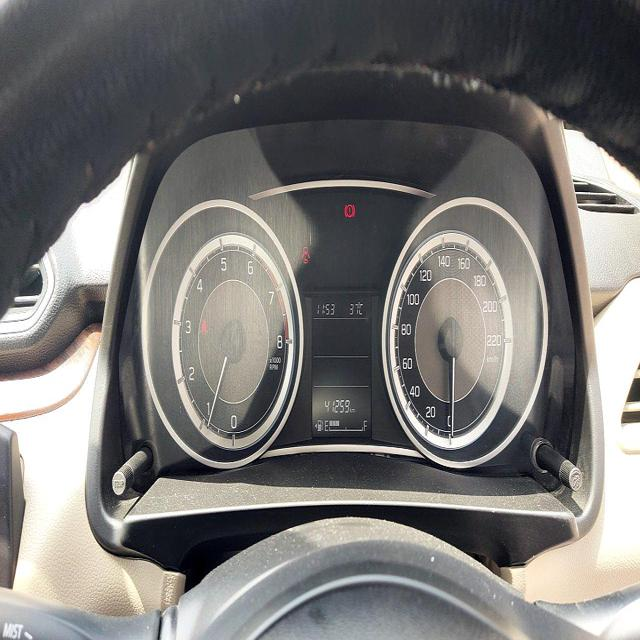odometer: (323, 396, 350, 415)
